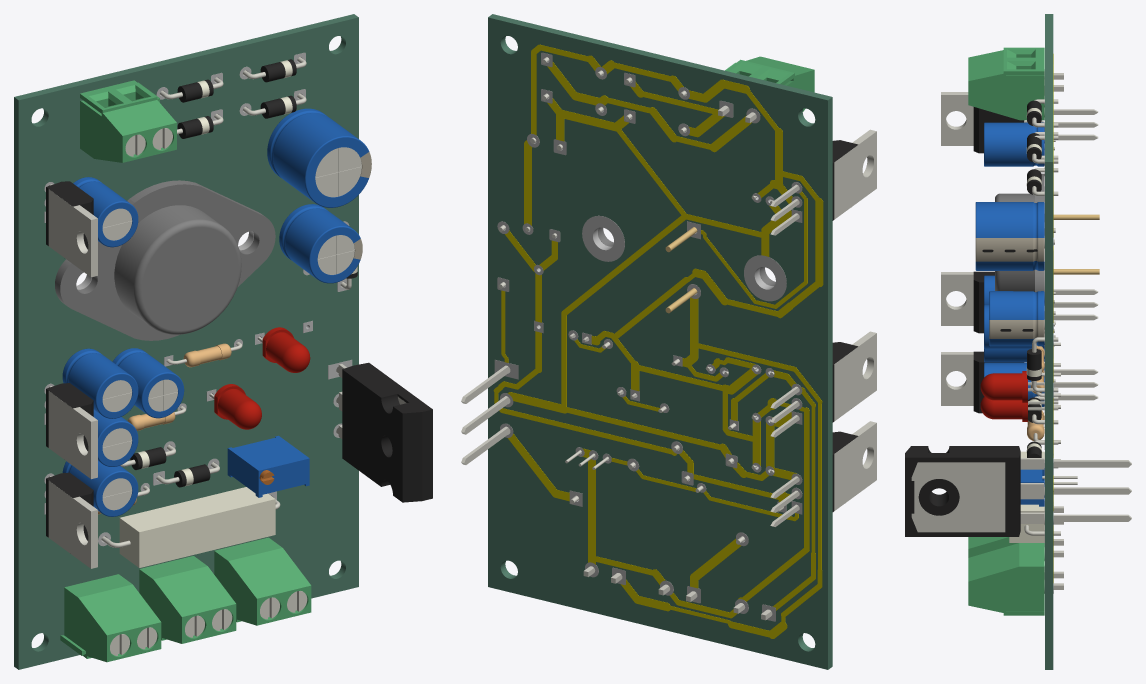
Rendered from power-supply.glb.
The picture shows the model from 3 angles, left to right: view 1: azimuth 30°, elevation 25°; view 2: azimuth 150°, elevation 25°; view 3: azimuth 270°, elevation 25°; orthographic projection. The views are drawn at different scales.
Parts seen in each view (by area): view 1: =>[0:1:1:30], =>[0:1:1:5] (×4), =>[0:1:1:19], =>[0:1:1:9] (×5), =>[0:1:1:3] (×3), =>[0:1:1:7], =>[0:1:1:23], =>[0:1:1:21], =>[0:1:1:13], =>[0:1:1:11] (×6), =>[0:1:1:25], =>[0:1:1:15] (×2) (+2 smaller); view 2: =>[0:1:1:30], =>[0:1:1:28], =>[0:1:1:3] (×3), =>[0:1:1:29], =>[0:1:1:5], =>[0:1:1:7], =>[0:1:1:19]; view 3: =>[0:1:1:7], =>[0:1:1:5] (×3), =>[0:1:1:3] (×3), =>[0:1:1:30], =>[0:1:1:21], =>[0:1:1:9] (×4), =>[0:1:1:13], =>[0:1:1:11] (×5), =>[0:1:1:15] (×2), =>[0:1:1:19], =>[0:1:1:23], =>[0:1:1:25] (+3 smaller).
Part boxes in pixels (x1,y1,x2,y2): =>[0:1:1:30]: (14,14,358,669); =>[0:1:1:5] (×4): (60,80,311,662); =>[0:1:1:19]: (55,180,275,340); =>[0:1:1:9] (×5): (62,177,184,516); =>[0:1:1:3] (×3): (46,181,97,568); =>[0:1:1:7]: (336,362,432,502); =>[0:1:1:23]: (101,487,280,567); =>[0:1:1:21]: (267,108,371,207); =>[0:1:1:13]: (279,204,362,283); =>[0:1:1:11] (×6): (120,57,306,487); =>[0:1:1:25]: (227,435,309,497); =>[0:1:1:15] (×2): (209,327,310,429); =>[0:1:1:30]: (488,14,832,669); =>[0:1:1:28]: (493,44,823,638); =>[0:1:1:3] (×3): (770,129,876,526); =>[0:1:1:29]: (494,52,802,621); =>[0:1:1:5]: (718,56,814,122); =>[0:1:1:7]: (461,365,510,464); =>[0:1:1:19]: (598,227,775,313); =>[0:1:1:7]: (905,446,1131,536); =>[0:1:1:5] (×3): (968,47,1063,615); =>[0:1:1:3] (×3): (941,92,1098,413); =>[0:1:1:30]: (1045,14,1053,669); =>[0:1:1:21]: (975,202,1055,270); =>[0:1:1:9] (×4): (984,122,1055,406); =>[0:1:1:13]: (989,291,1055,346); =>[0:1:1:11] (×5): (1026,99,1058,424); =>[0:1:1:15] (×2): (980,371,1058,421); =>[0:1:1:19]: (995,173,1099,292); =>[0:1:1:23]: (1009,451,1060,542); =>[0:1:1:25]: (1020,468,1077,506).
Size of the model in its own units: 0.0635 by 0.1016 by 0.0411.
